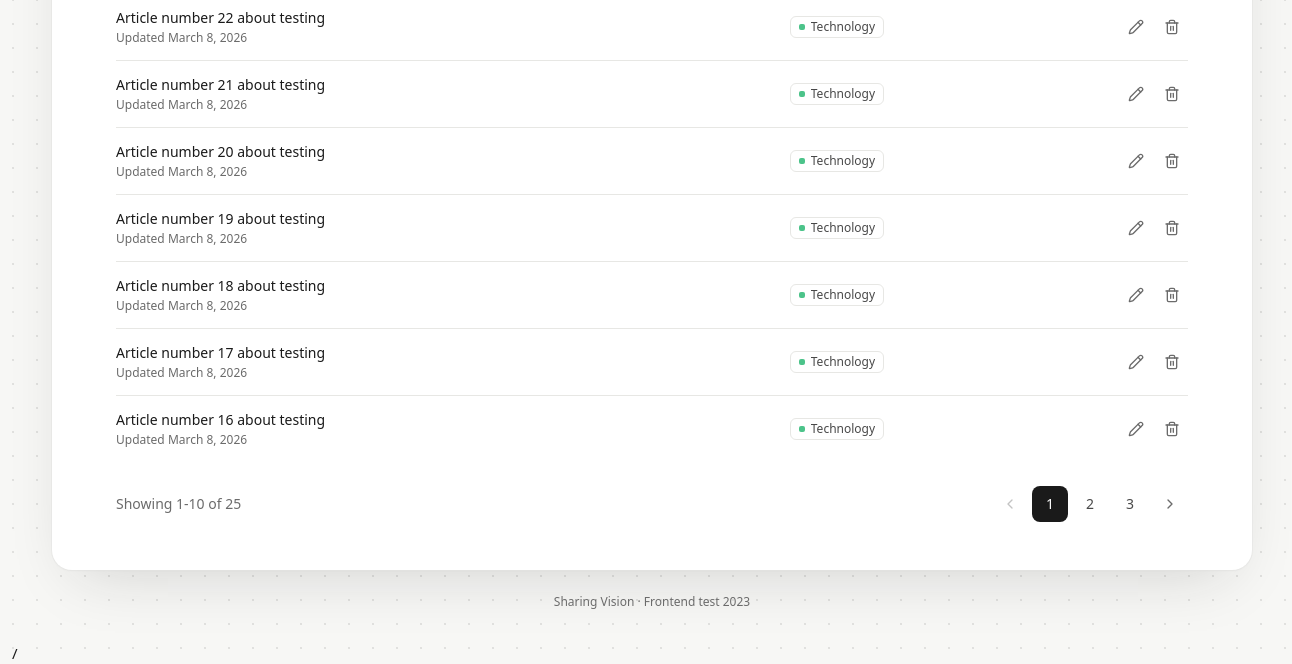
Scenario: All Posts page › paginates on the server with limit 10 and the right offset
(page scrolled)
Expected: the text "Showing 1-10 of 25" is shown, 116,494 -> 241,514
Click the button named "Page 2".
click(1090, 504)  # box 1072,486 -> 1108,522
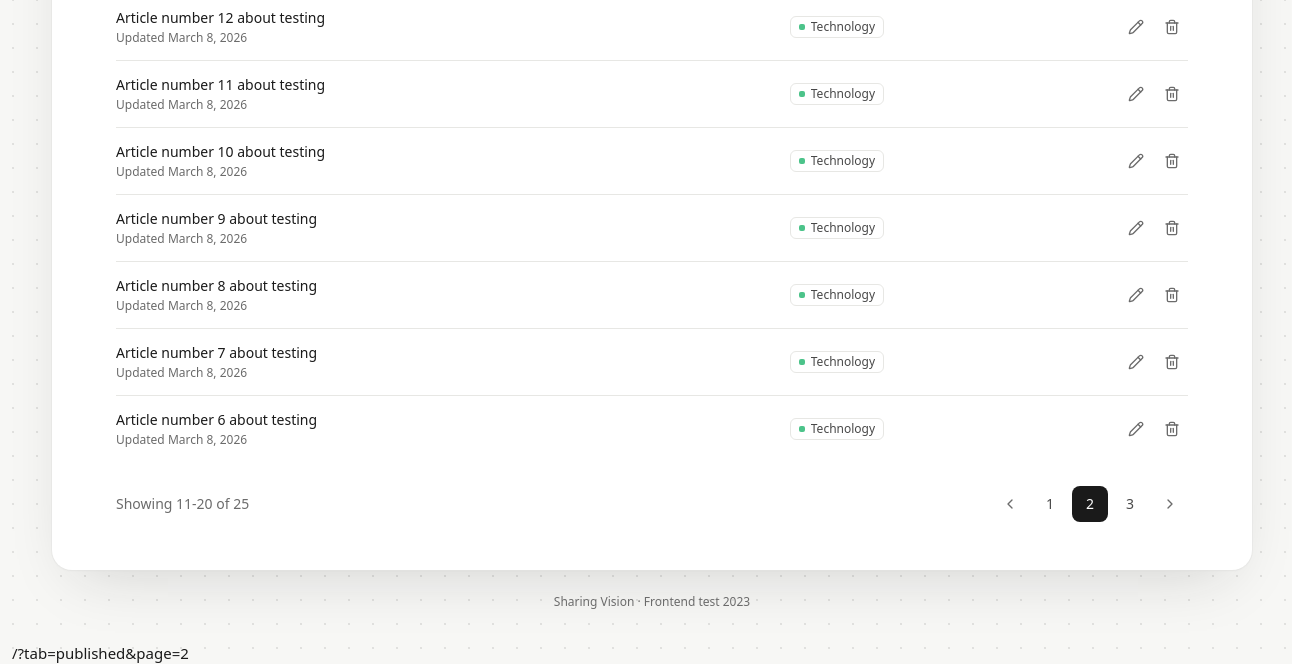
Now the text with test id "location" reads "/?tab=published&page=2", box 12,642 -> 189,662
Now the text "Showing 11-20 of 25" is shown, box 116,494 -> 249,514
Click the button named "Next page".
click(1170, 504)  # box 1152,486 -> 1188,522
(page scrolled)
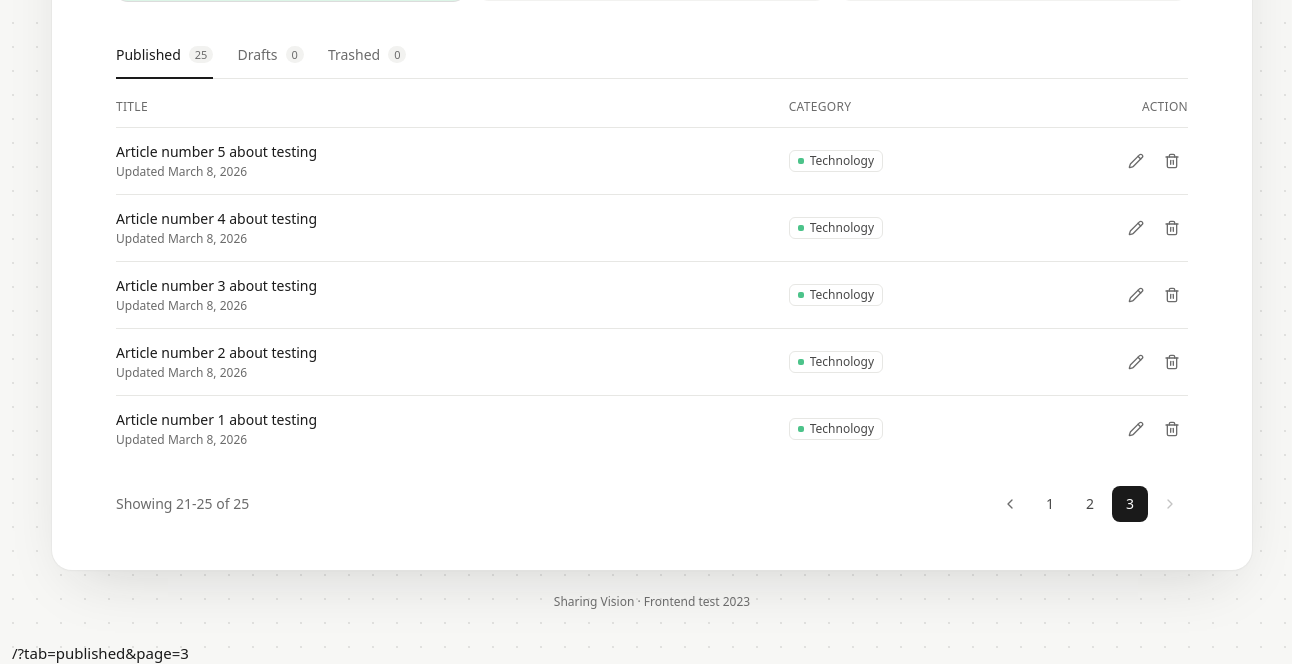
Now the text "Showing 21-25 of 25" is shown, box 116,494 -> 249,514
